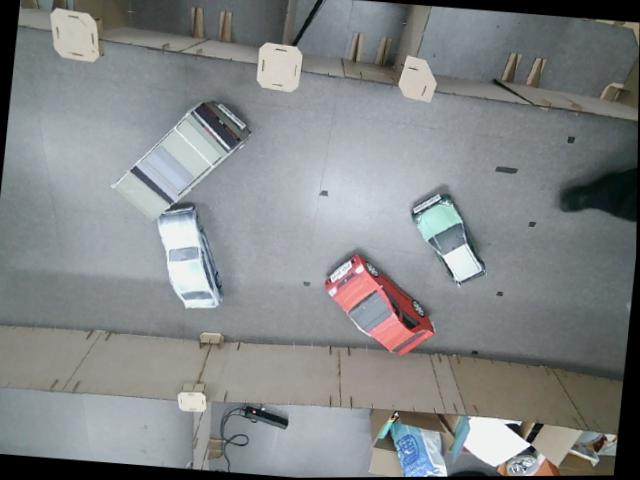car: (108, 91, 257, 229), (318, 251, 440, 359), (147, 202, 231, 313), (406, 190, 494, 287)
